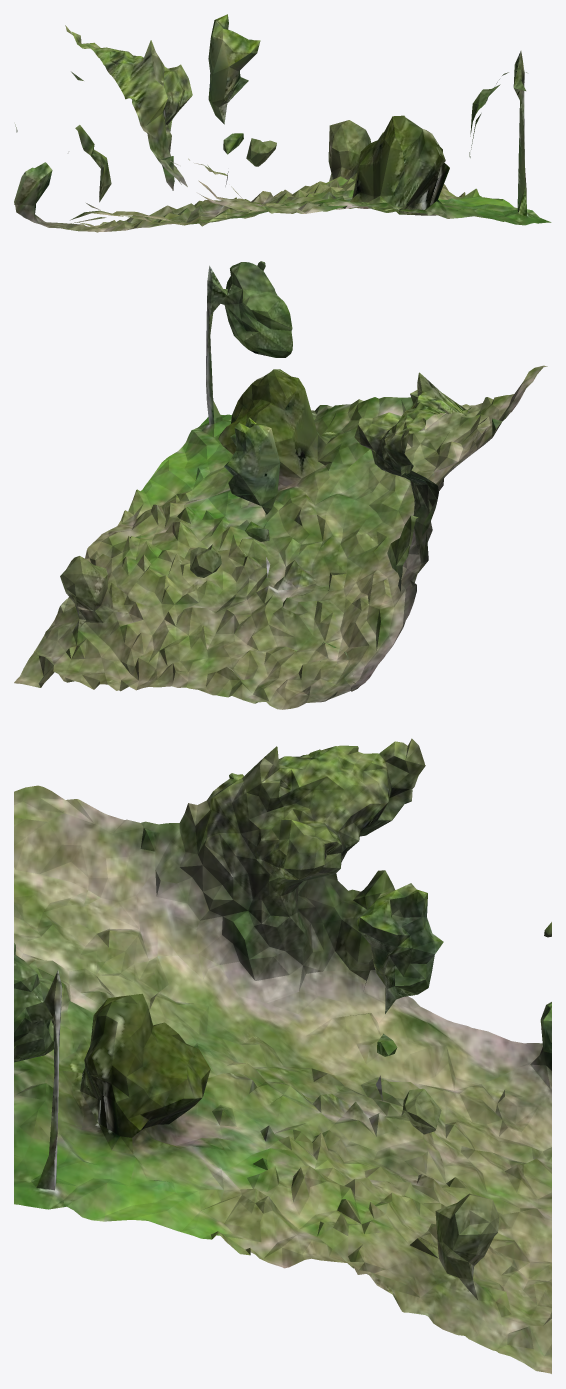
3 views of the same model, one above another, from view 1: azimuth 30°, elevation 25°; view 2: azimuth 150°, elevation 25°; view 3: azimuth 270°, elevation 25° (orthographic). The views are drawn at different scales.
Size of the model in its own units: 26.11 by 22.76 by 26.11.
5 materials, 5 textured.
